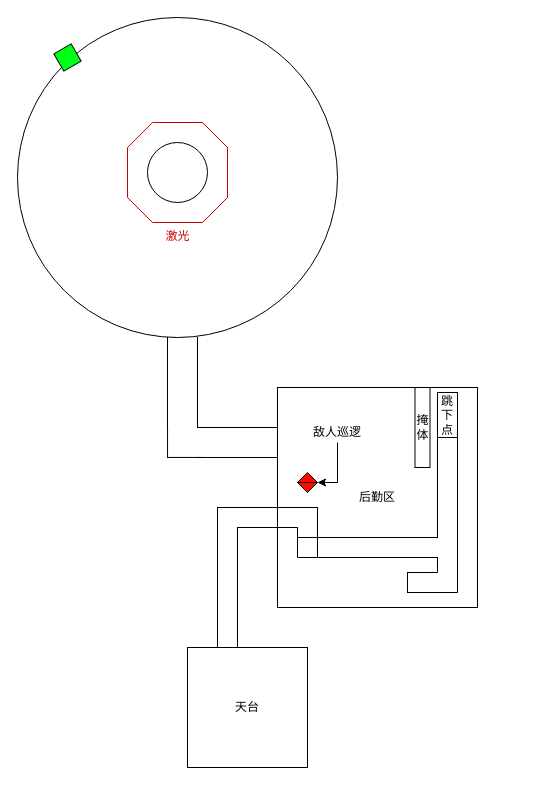
The diagram is 545 pixels wide and 785 high, and some of its shapes have lost their labels. The centre of each missing label's shape, as x and y in pixels:
"万象之眼展台" goes at pixel 177 172.
"激光开关" goes at pixel 67 57.
"观察点" goes at pixel 307 547.
